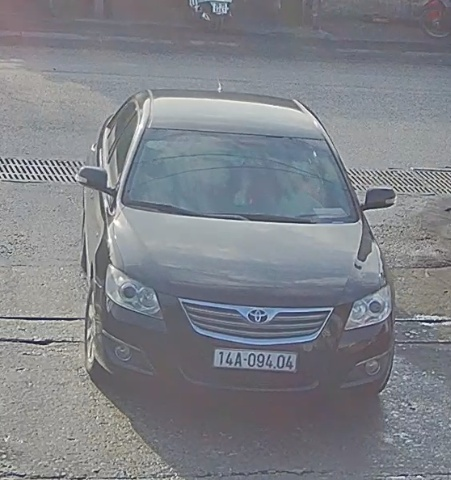vehicle plate: (208, 342, 302, 376)
